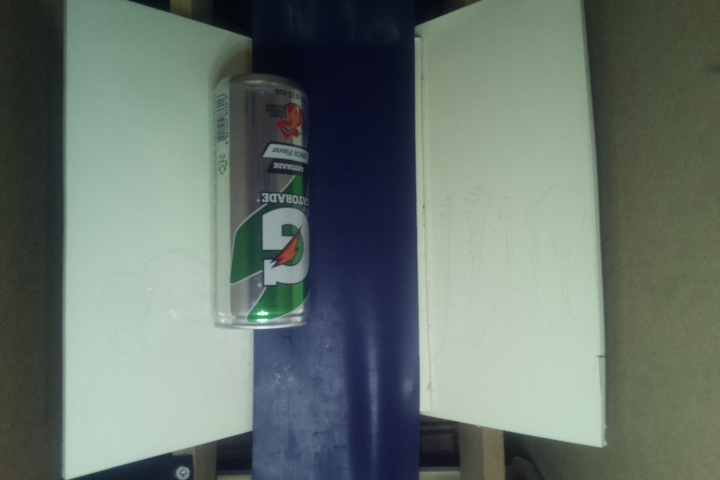can: (210, 75, 311, 333)
